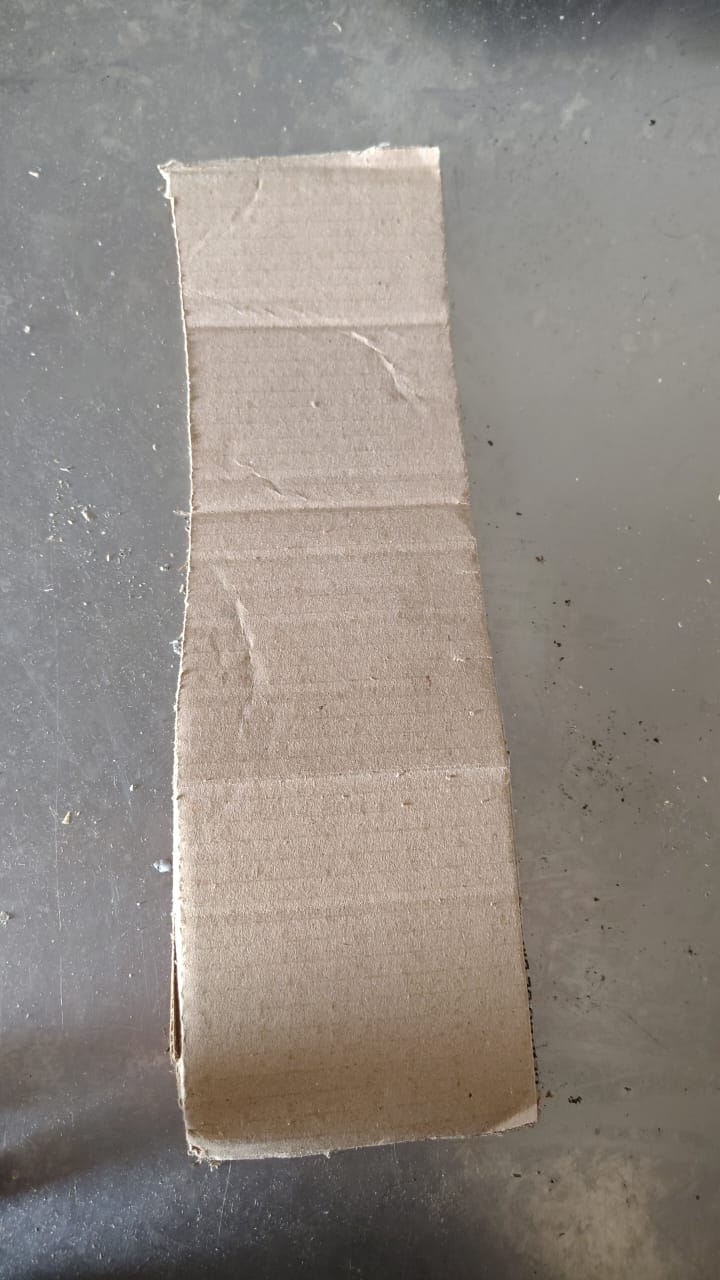Carton: (161, 148, 539, 1162)
